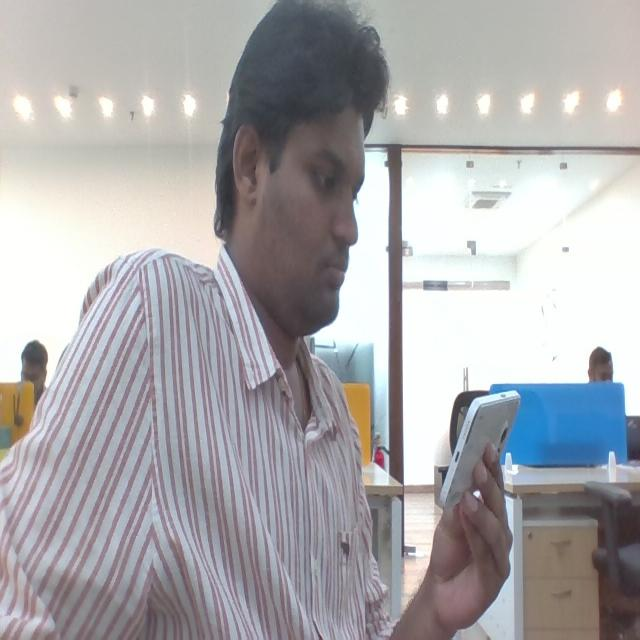phone: (441, 391, 524, 512)
